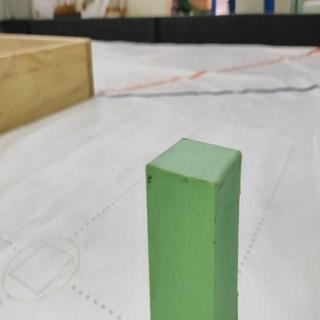greenbox: (143, 135, 245, 320)
